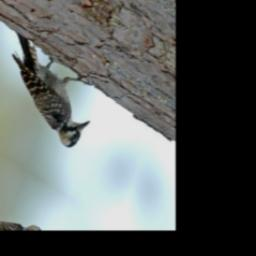Woodpecker: (0, 23, 104, 157)
